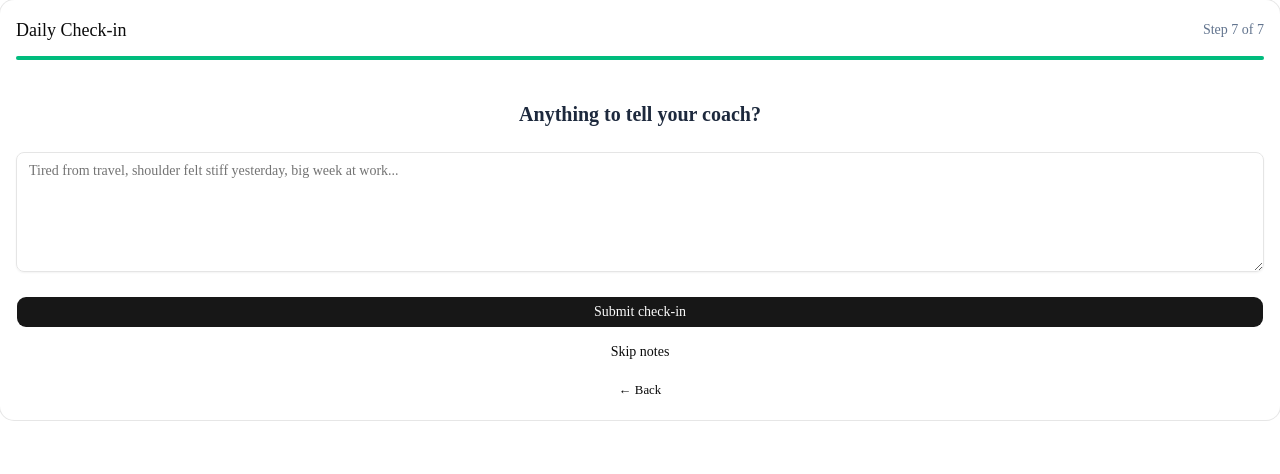
Test: ReadinessForm — submission › shows error message on network failure
Click the button "Submit check-in": (640, 312) [16,296,1264,328]
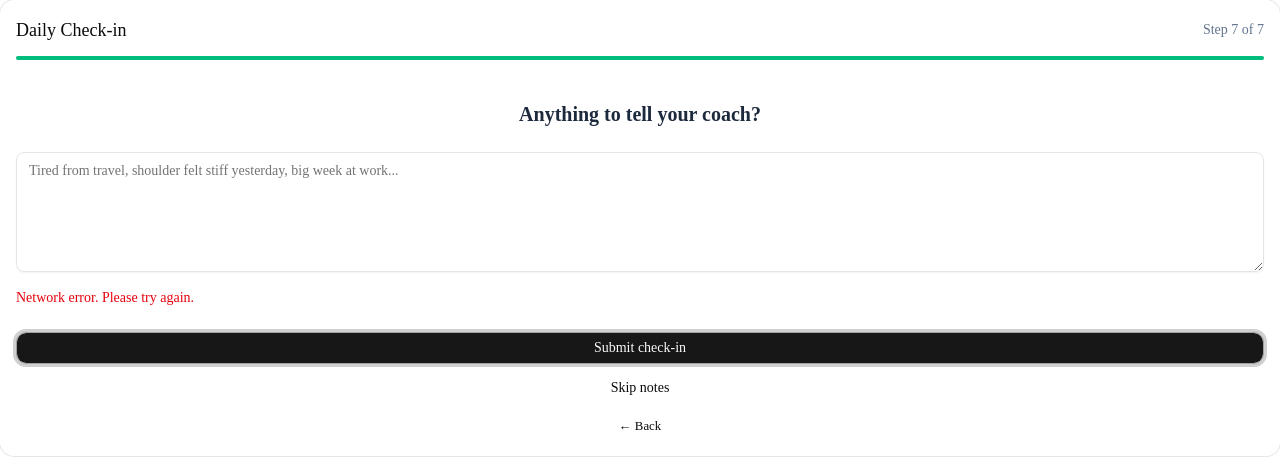
Check: the text "Network error. Please try again." is shown, box [16,290,194,305]
